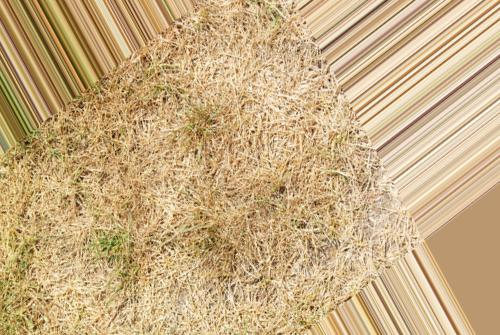patch: (13, 12, 417, 334)
